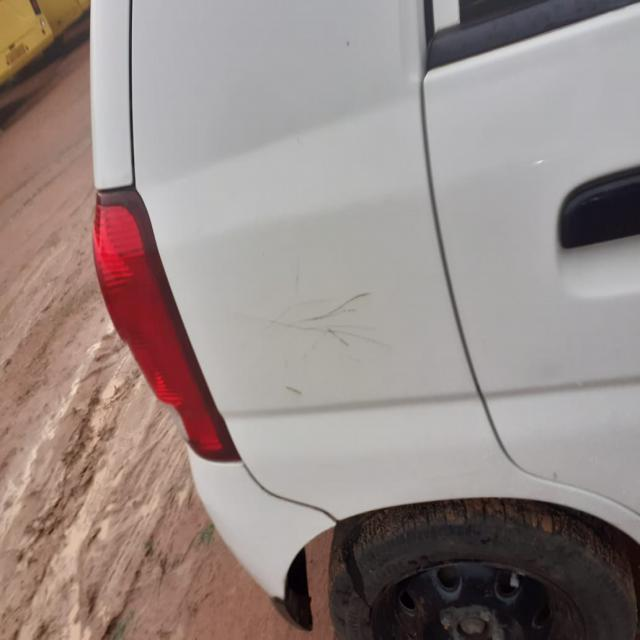quaterpanel-dent: (215, 127, 432, 598)
